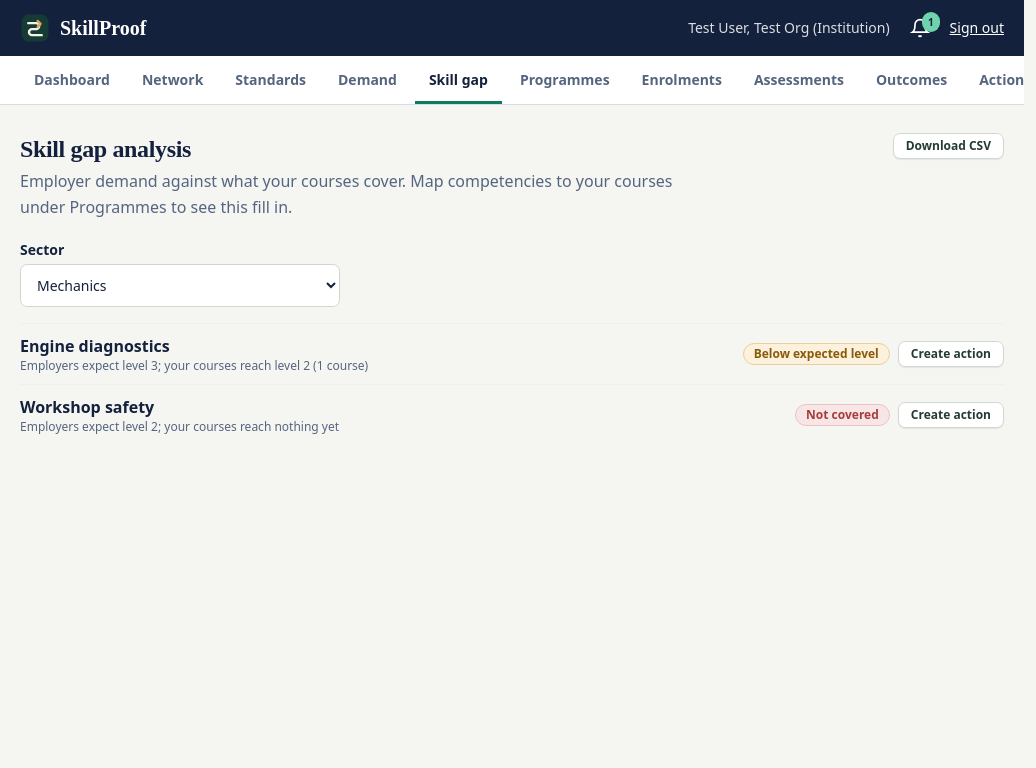
Test case: key actions send the right requests › institution turns a skill gap into a curriculum action
Click the button "Create action" next to "Below expected level" at (951, 354), box [898,341,1004,367]
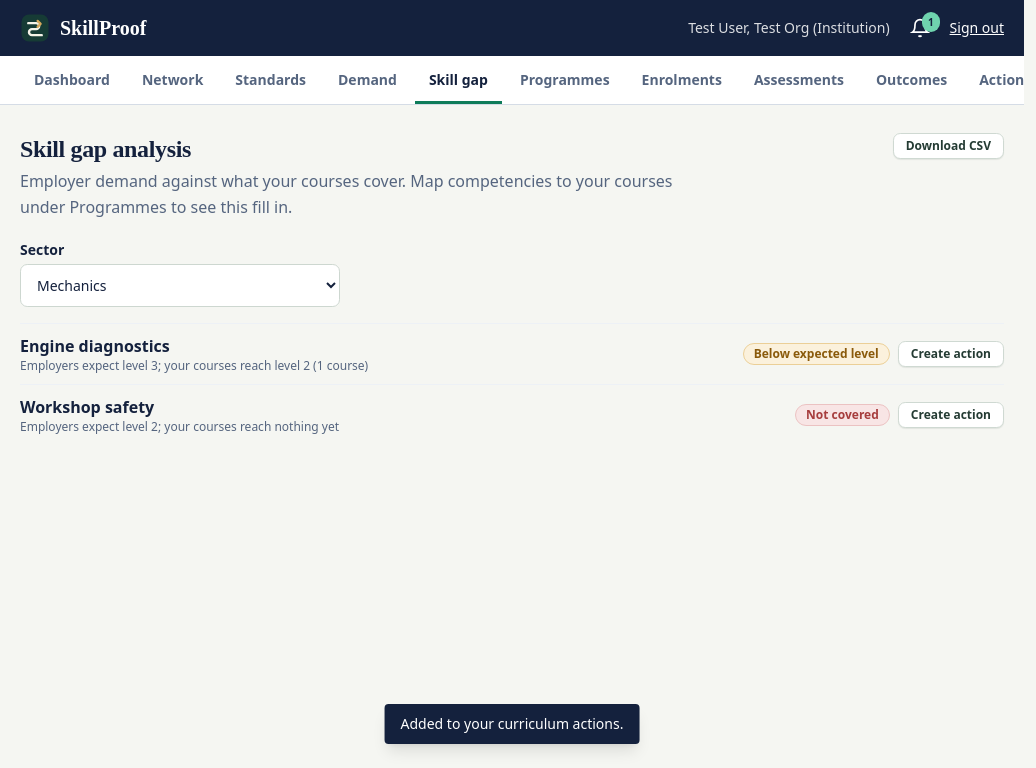
Expected: the text "Added to your curriculum actions." is shown, [384,704,639,744]
